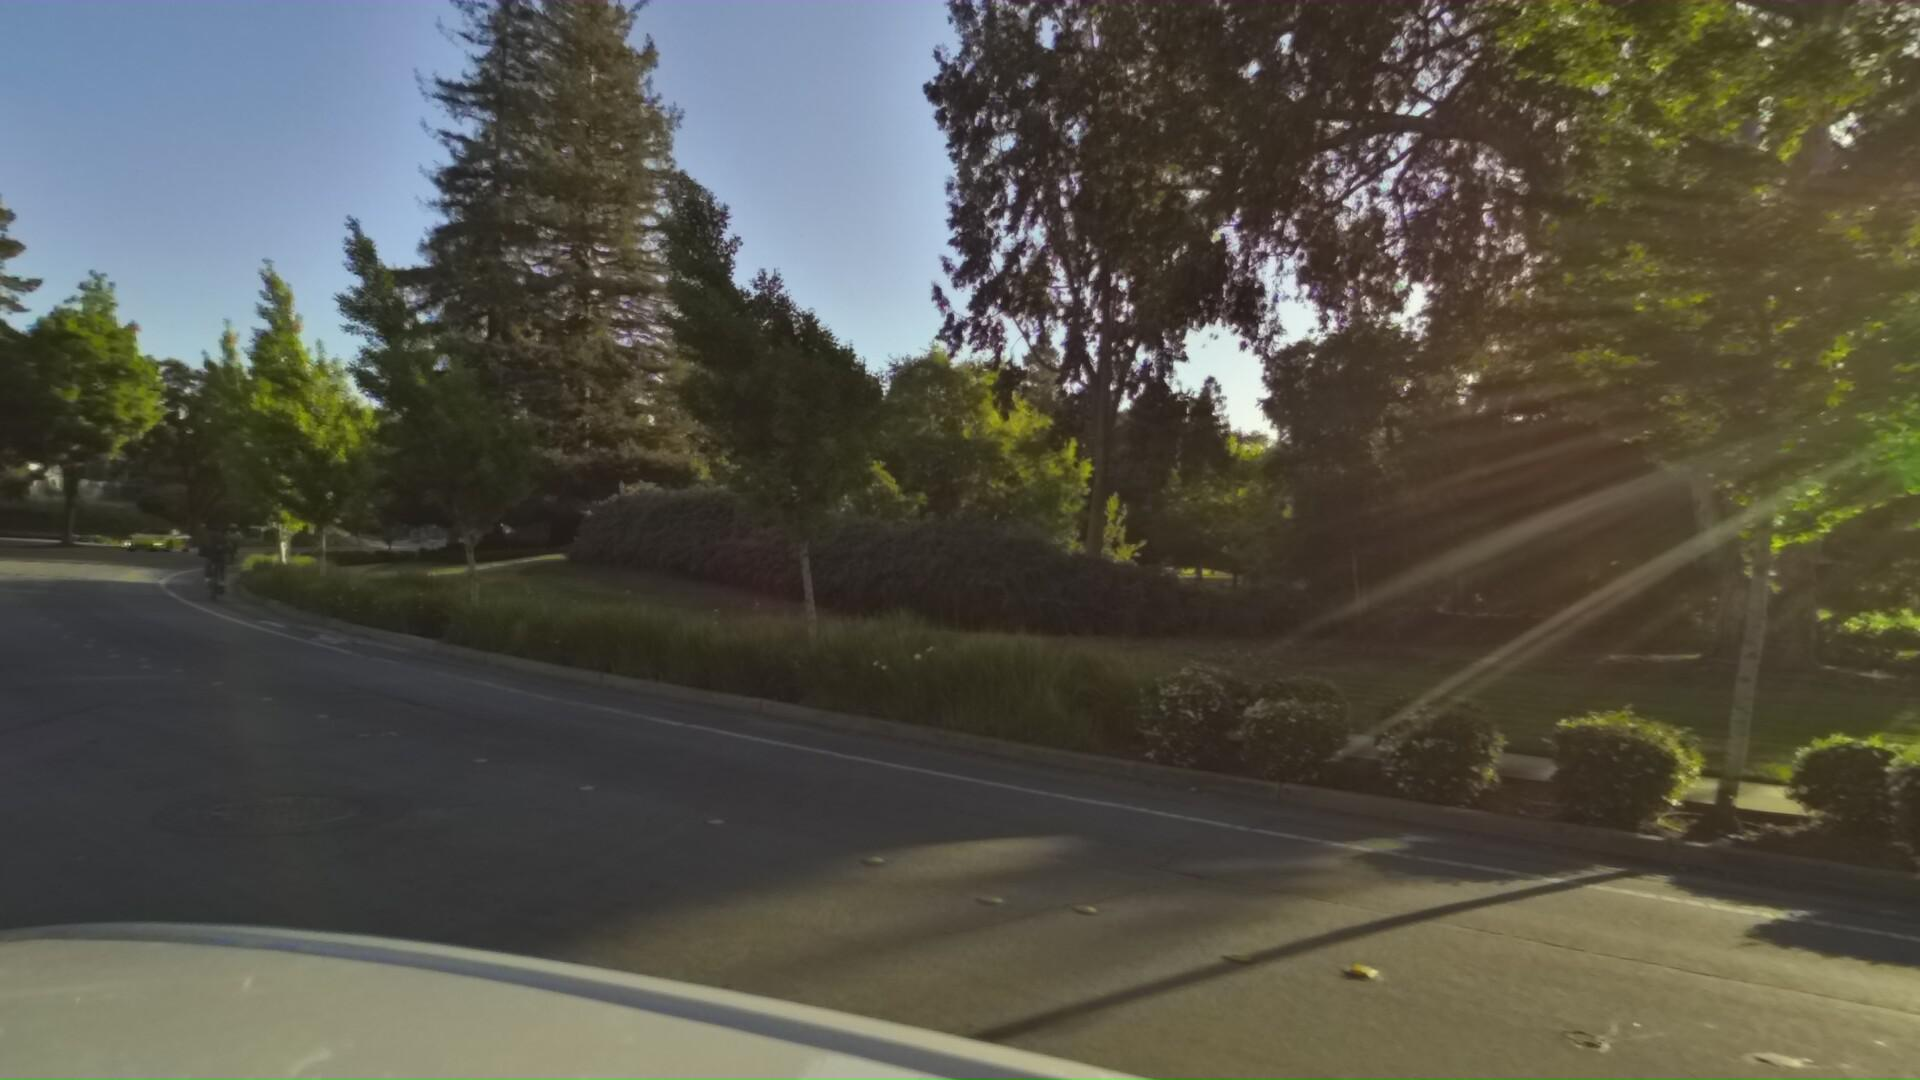bicycle: (185, 513, 243, 603), (224, 521, 258, 566)
car: (116, 521, 204, 553)
